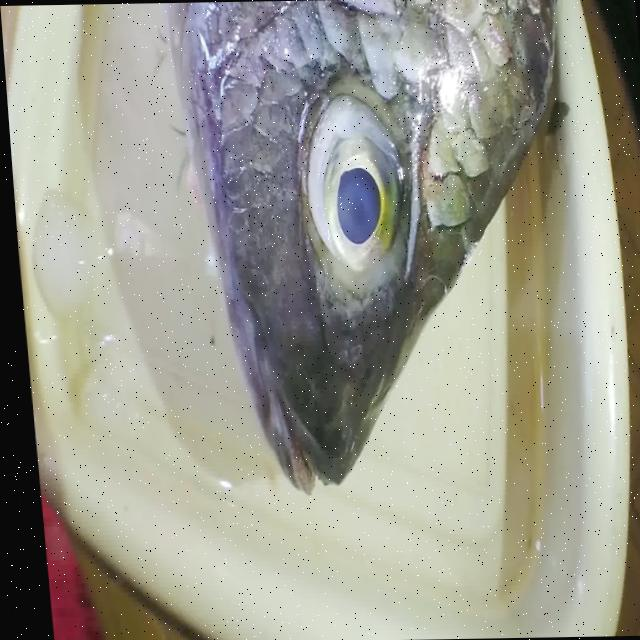Fresh: (261, 75, 404, 313)
